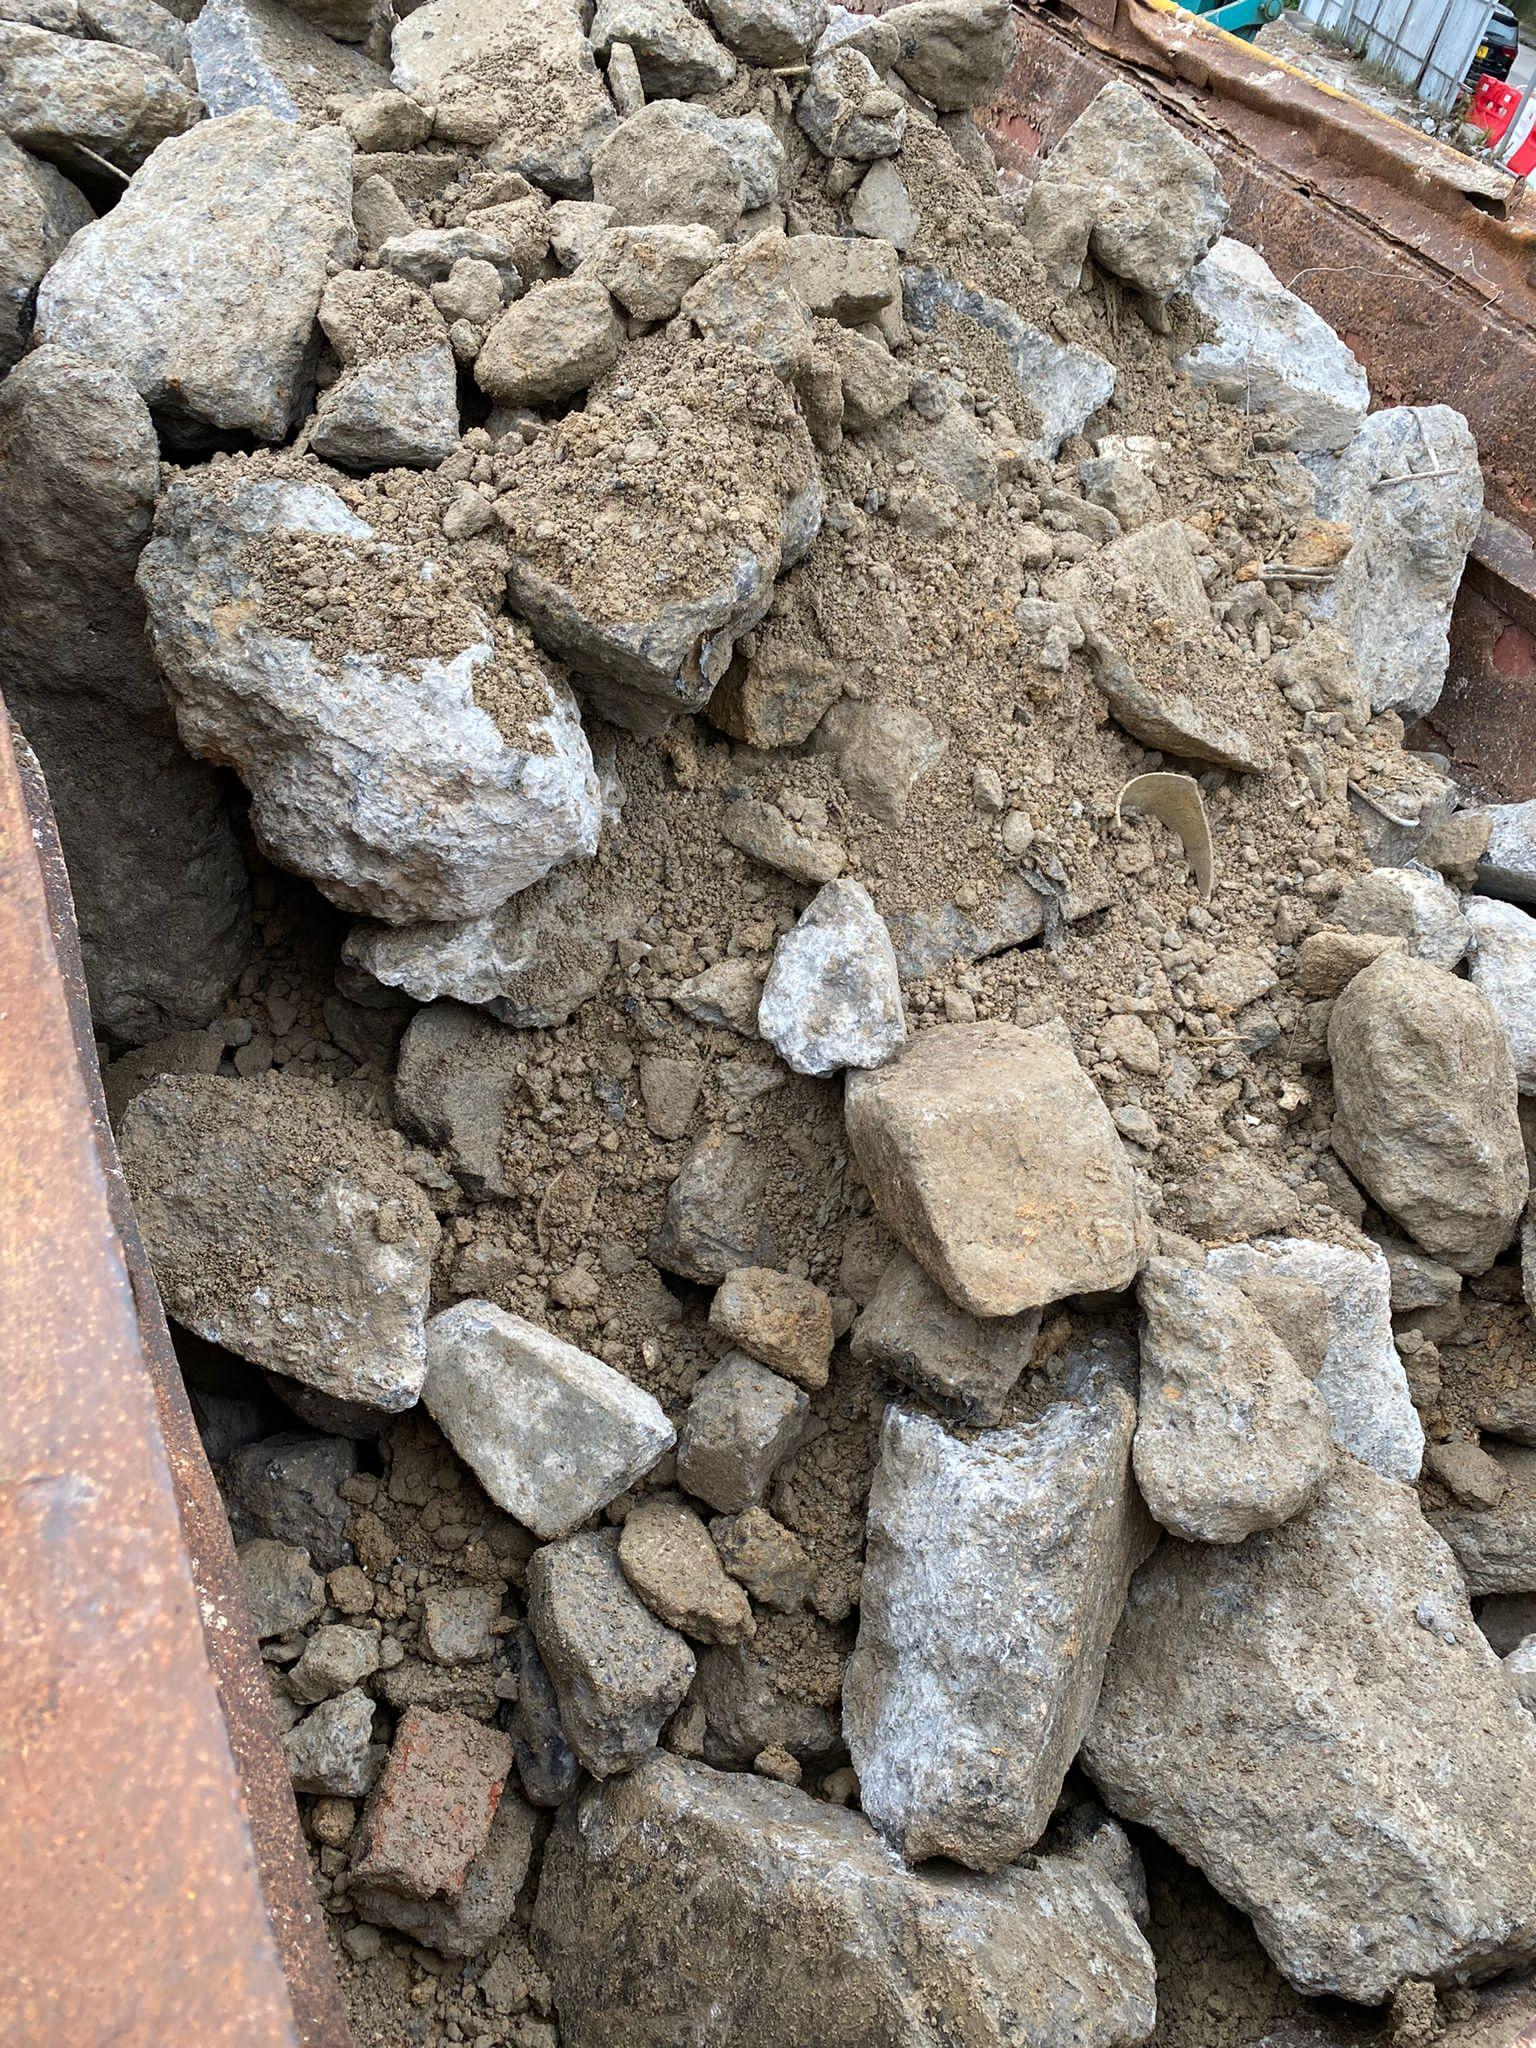dry: (10, 0, 1520, 2027)
